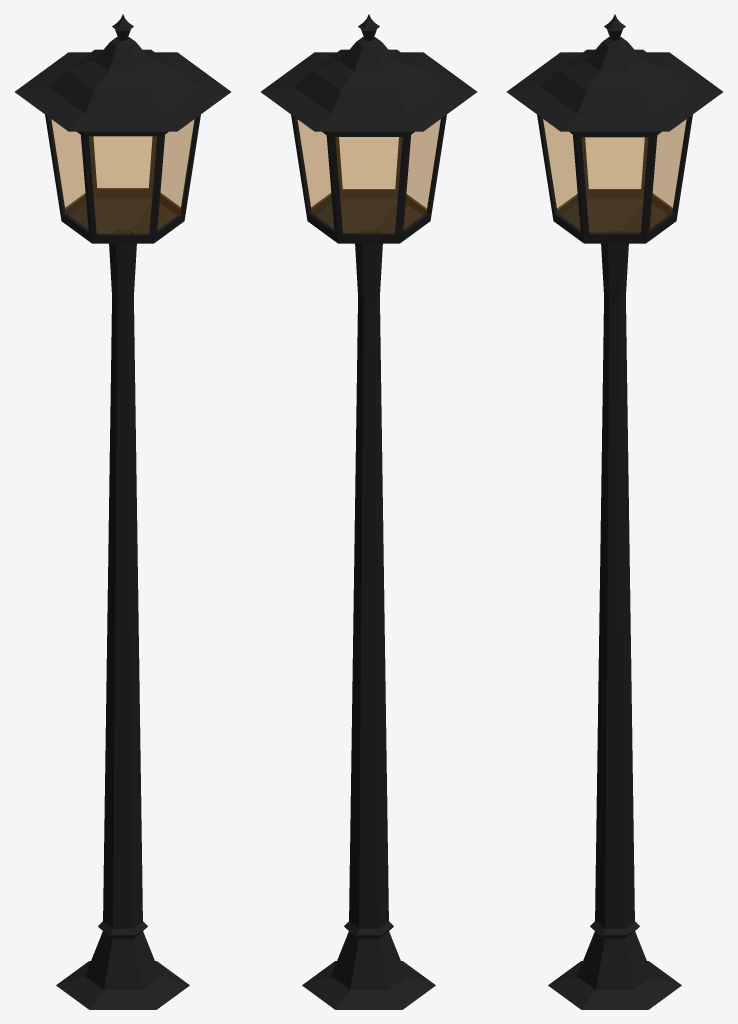
The model's file is streetlamp.obj.
The picture shows the model from 3 angles, left to right: view 1: azimuth 30°, elevation 25°; view 2: azimuth 150°, elevation 25°; view 3: azimuth 270°, elevation 25°; orthographic projection.
Parts seen in each view (by area): view 1: Cylinder; view 2: Cylinder; view 3: Cylinder.
Boxes of the visible parts, <box> form: Cylinder: <box>15,14,230,1009</box>; Cylinder: <box>261,14,476,1009</box>; Cylinder: <box>507,14,722,1009</box>.
Bounding box in the file's own units: 3.06 × 17.41 × 3.53.
